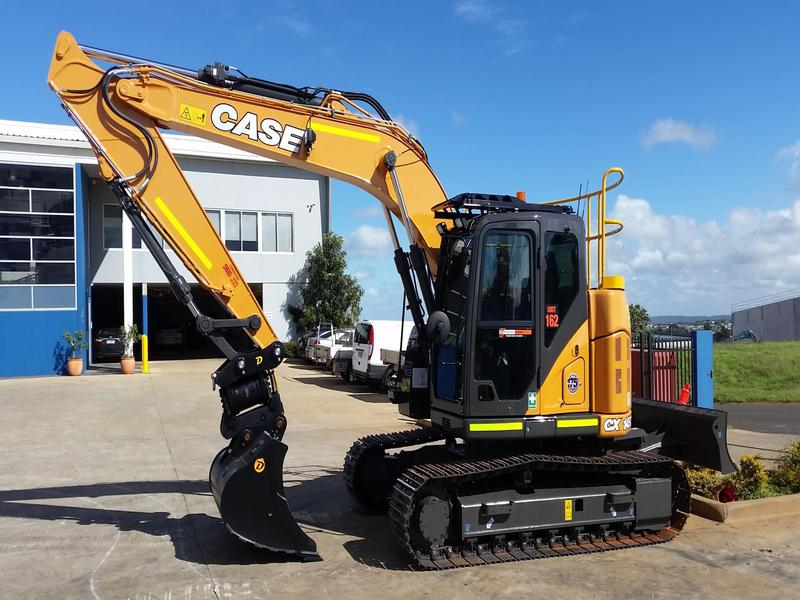shovel: (40, 17, 739, 575)
